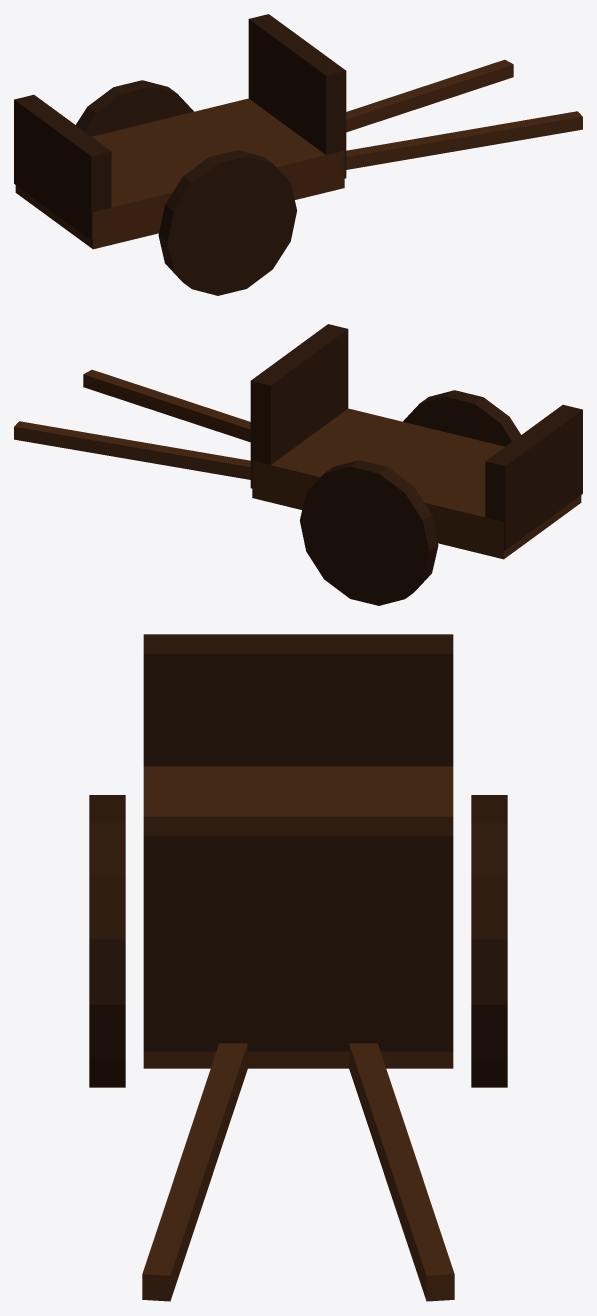
File: Wagon_A.obj
The picture shows the model from 3 angles, top to bottom: view 1: azimuth 30°, elevation 25°; view 2: azimuth 150°, elevation 25°; view 3: azimuth 270°, elevation 25°; orthographic projection. The views are drawn at different scales.
Visible parts, largest first — view 1: WagonBed, Wheel1, WagonFront, WagonBack, ShaftR, Wheel-1, ShaftL; view 2: WagonBed, Wheel-1, WagonFront, WagonBack, ShaftL, Wheel1, ShaftR; view 3: WagonFront, WagonBack, WagonBed, Wheel-1, Wheel1, ShaftL, ShaftR.
Boxes of the visible parts, box(x1,y1,x2,y2) form: WagonBed: box(15, 98, 344, 249); Wheel1: box(158, 150, 296, 295); WagonFront: box(248, 14, 346, 178); WagonBack: box(14, 94, 111, 240); ShaftR: box(346, 111, 582, 169); Wheel-1: box(76, 80, 193, 136); ShaftL: box(346, 59, 513, 132); WagonBed: box(252, 408, 581, 559); Wheel-1: box(300, 460, 438, 605); WagonFront: box(250, 324, 348, 488); WagonBack: box(485, 404, 582, 550); ShaftL: box(14, 421, 250, 479); Wheel1: box(403, 390, 520, 446); ShaftR: box(83, 369, 250, 442); WagonFront: box(143, 816, 453, 1051); WagonBack: box(143, 634, 453, 766); WagonBed: box(143, 766, 453, 1068); Wheel-1: box(471, 795, 507, 1087); Wheel1: box(89, 795, 125, 1087); ShaftL: box(348, 1043, 454, 1301); ShaftR: box(142, 1043, 248, 1301).
Size of the model in its own units: 4.41 by 1.55 by 1.62.
